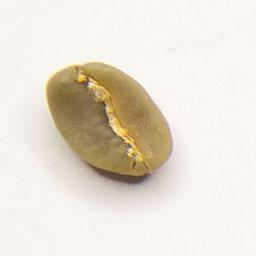premium: (42, 57, 179, 184)
